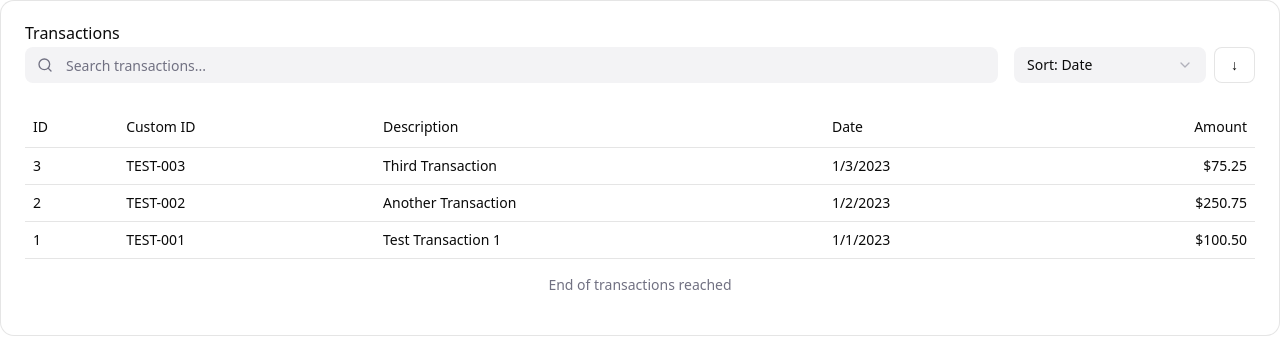
TransactionTable › filters transactions based on search term
# Search for a specific description
Type "Another" into the field with placeholder "Search transactions...". click: (512, 65)
box: left=25, top=47, right=998, bottom=83
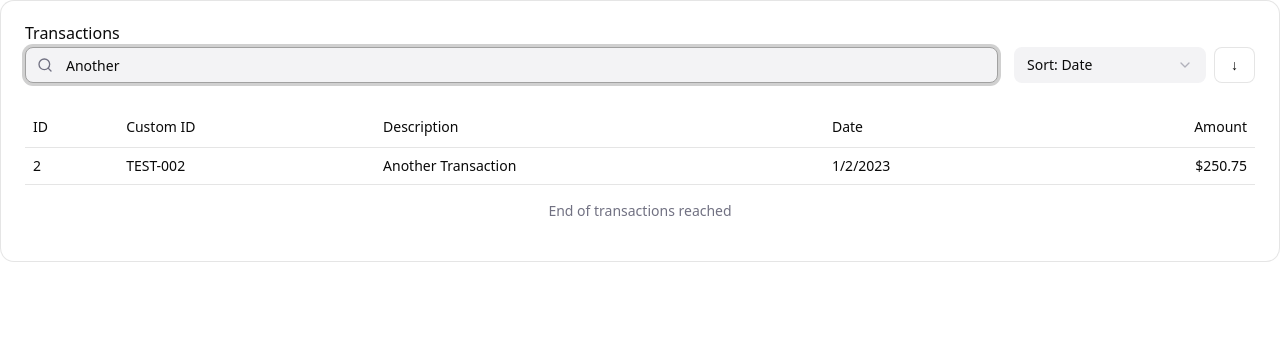
Check: the text "Another Transaction" is shown, box left=375, top=147, right=824, bottom=184
Check: the text "Test Transaction 1" is gone
Check: the text "Third Transaction" is gone
